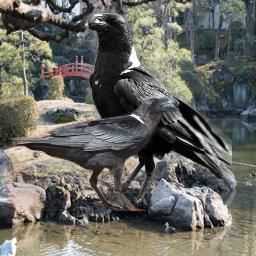Crow: (80, 9, 232, 202), (6, 94, 180, 211)
